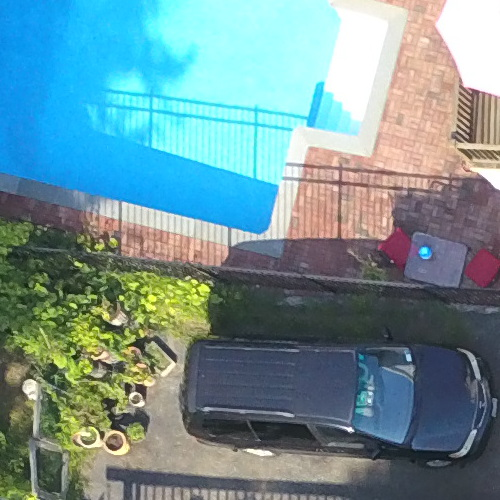flower pot: (98, 427, 133, 458), (69, 421, 104, 452), (128, 361, 151, 385), (85, 336, 108, 360), (122, 337, 145, 361), (124, 391, 147, 412)
larvae: (120, 335, 143, 359)
